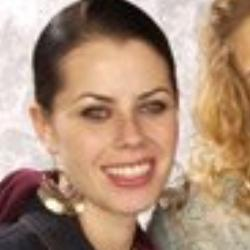face: (17, 1, 200, 221)
